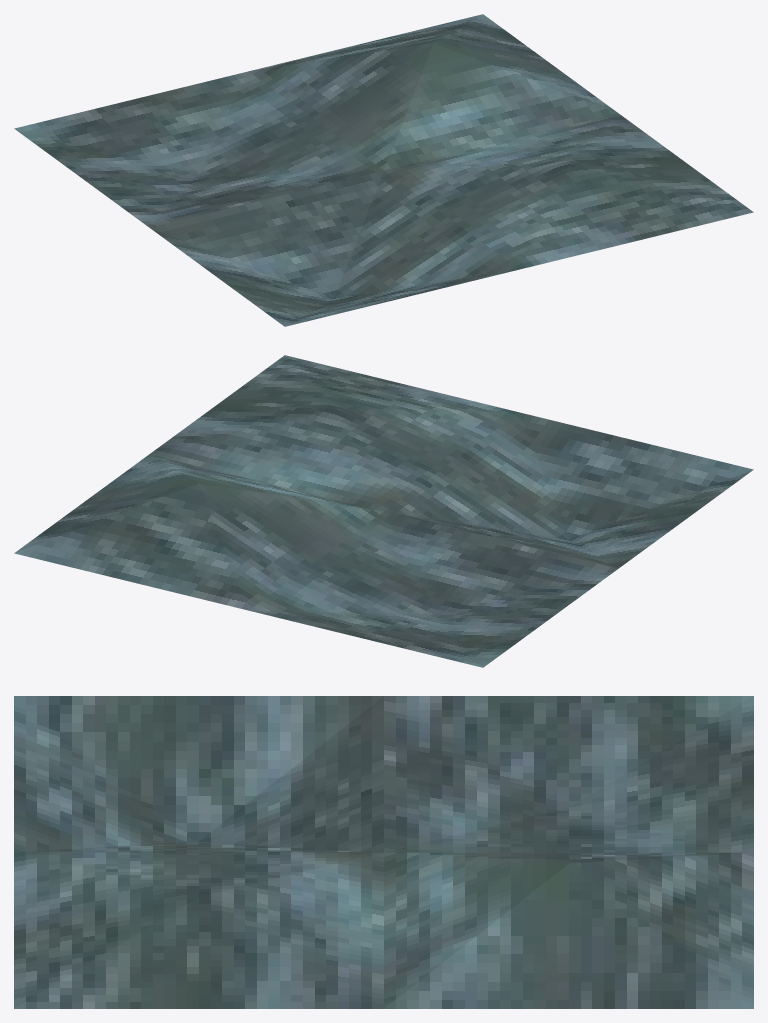
Rendered from water.glb.
3 views of the same model, one above another, from view 1: azimuth 30°, elevation 25°; view 2: azimuth 150°, elevation 25°; view 3: azimuth 270°, elevation 25° (orthographic). The views are drawn at different scales.
Parts seen in each view (by area): view 1: water; view 2: water; view 3: water.
Part boxes in pixels (<box>): water: <box>14,14,753,326</box>; water: <box>14,355,753,667</box>; water: <box>14,696,753,1008</box>.
Size of the model in its own units: 1 by 0.2 by 1.
Materials: 1 (1 with a texture image).
